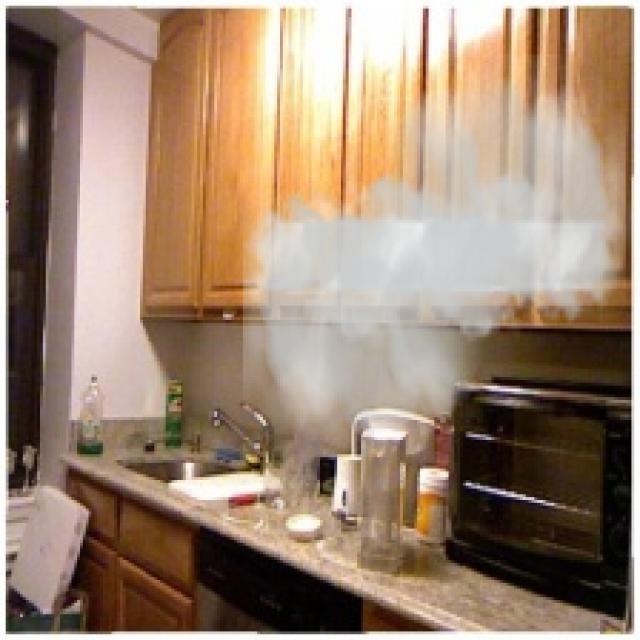smoke: (243, 54, 626, 457)
